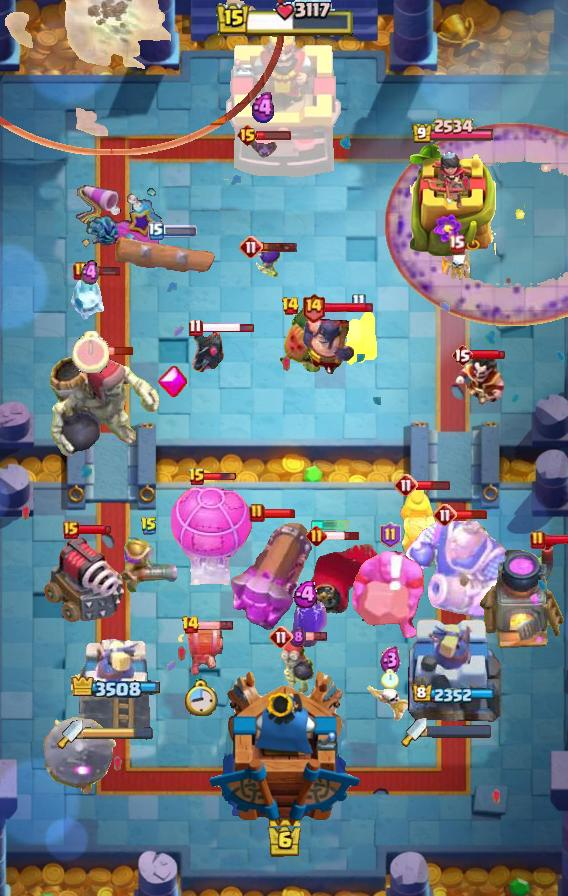archer-queen: (350, 549, 430, 643)
bar: (405, 611, 501, 731), (77, 637, 151, 731)
barbarian-barrel: (250, 136, 278, 160)
bat: (68, 273, 112, 323)
battle-ram: (189, 327, 227, 377)
bomb-tower: (120, 535, 178, 595)
cannon-cart: (168, 480, 256, 588)
clock: (215, 0, 353, 39)
electro-giant: (46, 353, 162, 463)
electro-spirit: (249, 92, 279, 124), (293, 580, 321, 607), (380, 645, 401, 674), (81, 259, 99, 287), (289, 626, 307, 648)
elite-barbarian: (399, 486, 441, 568)
elixir: (72, 331, 109, 373), (184, 679, 218, 717), (381, 669, 399, 689)
emote: (322, 301, 374, 315), (200, 321, 255, 334), (262, 241, 299, 253), (324, 530, 361, 542), (161, 225, 197, 237), (470, 349, 506, 361), (76, 524, 112, 536), (417, 479, 452, 491), (198, 621, 235, 632), (292, 630, 329, 641), (256, 131, 292, 142), (88, 265, 121, 277), (262, 509, 296, 520), (454, 509, 488, 520), (98, 346, 133, 356), (203, 472, 237, 482), (544, 534, 568, 547)
furnace: (227, 518, 313, 642)
giant-skeleton: (406, 515, 513, 617)
goblin: (256, 244, 282, 280)
goblin-barrel: (277, 307, 335, 377)
golem: (43, 535, 127, 625)
heal-spirit: (365, 684, 415, 722), (442, 251, 470, 283)
hunter: (478, 544, 568, 652)
ice-golem: (279, 641, 315, 695)
ice-spirit: (310, 520, 350, 530)
inferno-tower: (277, 539, 383, 627)
king-tower: (207, 669, 361, 826), (224, 29, 344, 181)
king-tower-bar: (83, 727, 153, 741), (427, 725, 491, 738)
knight: (176, 621, 226, 677)
lumberjack: (453, 354, 505, 408)
minion: (113, 235, 219, 279)
monk: (301, 305, 357, 377)
queen-tower: (410, 144, 496, 255)
rocket: (384, 122, 568, 326)
royal-ghost: (0, 1, 284, 156)
selected: (68, 674, 159, 700), (411, 118, 495, 145), (413, 684, 496, 705)
skeleton-king-skill: (156, 365, 188, 399)
spear-goblin: (287, 597, 327, 647)
text: (302, 293, 327, 323), (239, 235, 263, 259), (394, 473, 418, 497), (433, 503, 457, 527), (269, 625, 293, 649), (237, 123, 260, 147), (380, 522, 401, 548), (451, 343, 473, 367), (305, 525, 327, 546), (180, 615, 200, 635), (280, 296, 299, 316), (188, 467, 206, 487), (140, 516, 158, 536), (447, 234, 465, 253), (73, 261, 89, 281), (249, 503, 265, 523), (530, 530, 546, 550), (148, 222, 164, 240), (63, 521, 79, 539), (351, 293, 366, 312), (188, 318, 203, 337)
tombstone: (337, 309, 379, 367)
x-bow: (37, 716, 117, 796)
